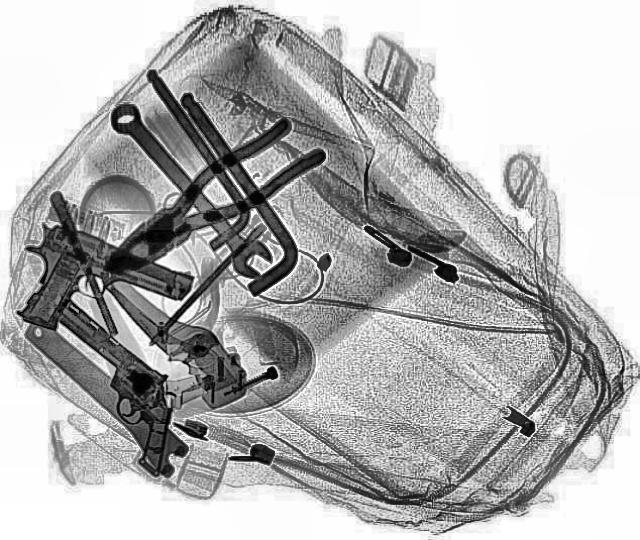Gun: (0, 302, 232, 482), (1, 220, 198, 364)
Pliers: (81, 114, 329, 293)
Wrench: (92, 97, 280, 280)
